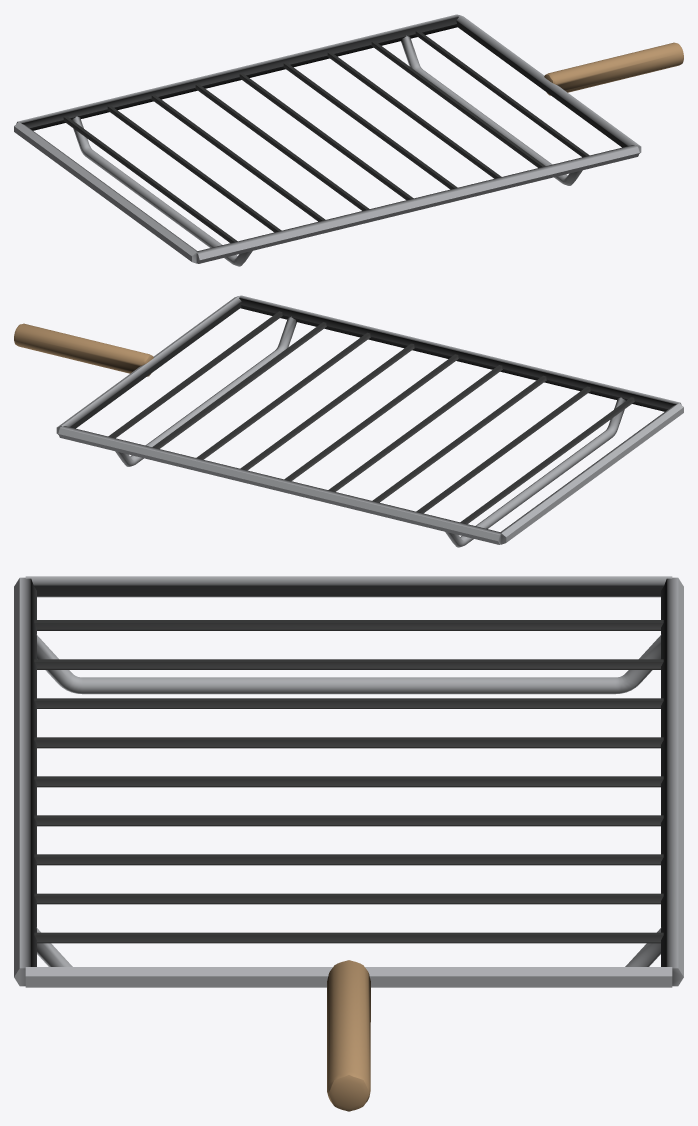
File: cook_grill.glb
3 views of the same model, one above another, from view 1: azimuth 30°, elevation 25°; view 2: azimuth 150°, elevation 25°; view 3: azimuth 270°, elevation 25° (orthographic). The views are drawn at different scales.
Parts seen in each view (by area): view 1: PART; view 2: PART; view 3: PART.
Boxes of the visible parts, box(x1,y1,x2,y2) form: PART: box(14, 14, 683, 266); PART: box(14, 295, 683, 547); PART: box(14, 576, 683, 1111).
Bounding box in the file's own units: 0.5243 × 0.0375 × 0.29.
